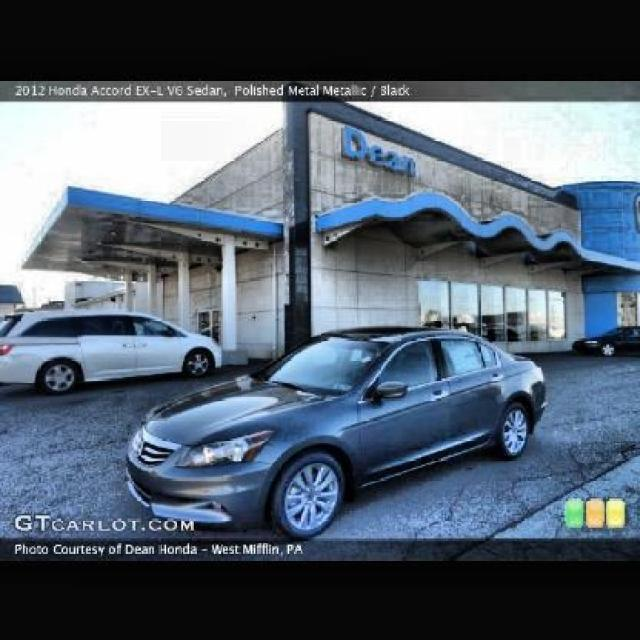black: (120, 332, 564, 517)
